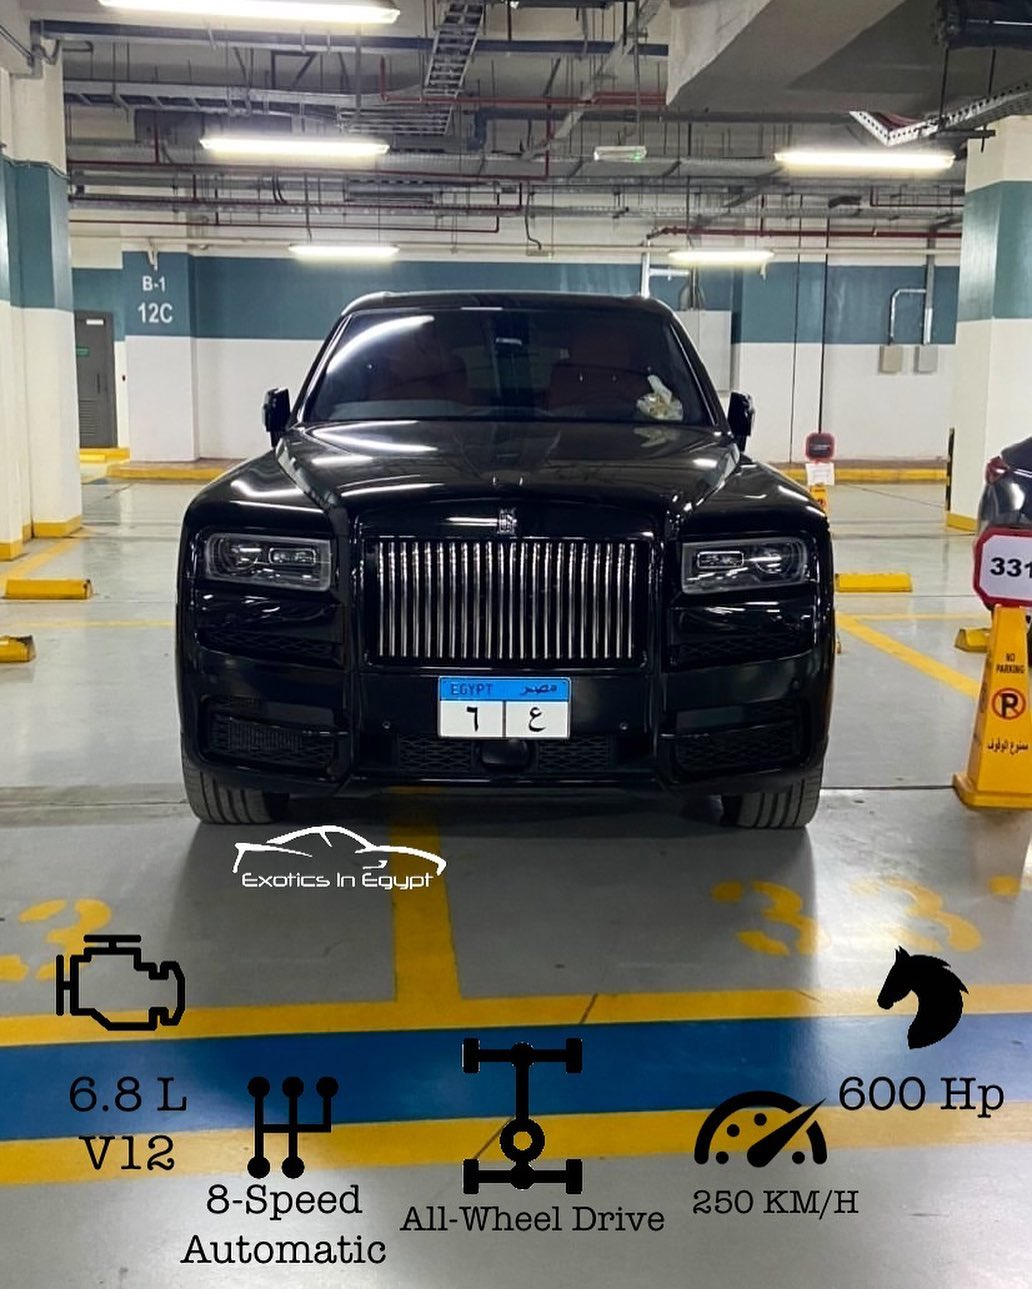carpl: (428, 662, 583, 752)
